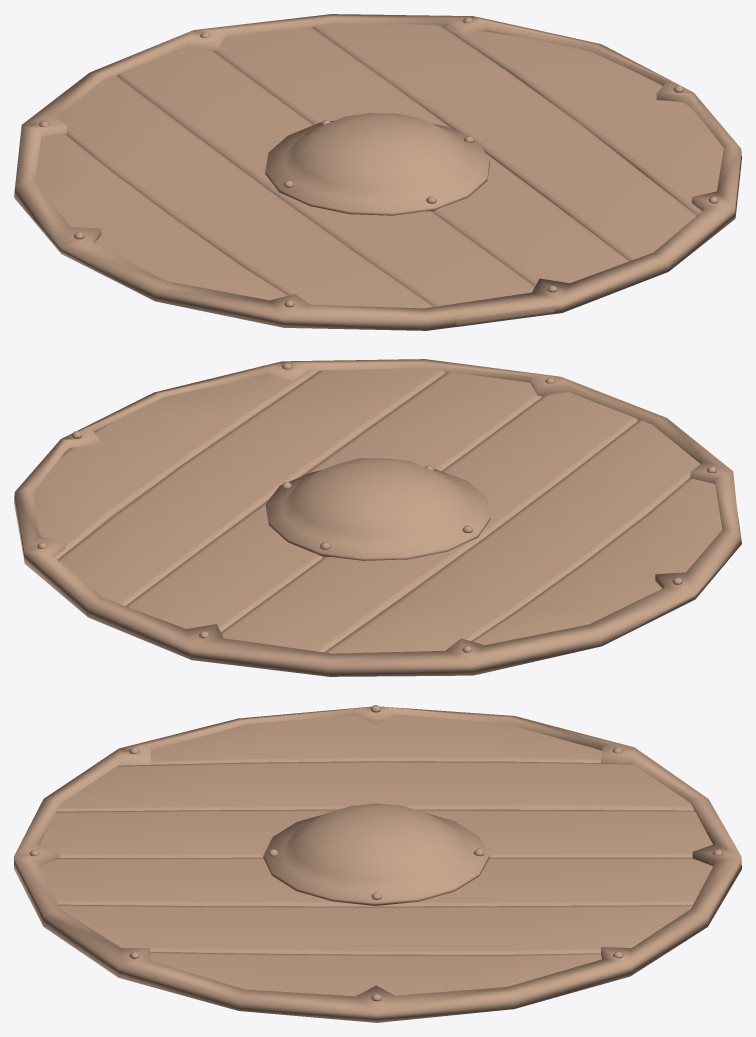
The model's file is escut_low.fbx.
3 views of the same model, one above another, from view 1: azimuth 30°, elevation 25°; view 2: azimuth 150°, elevation 25°; view 3: azimuth 270°, elevation 25° (orthographic).
Parts seen in each view (by area): view 1: fusta, metall, decor003; view 2: fusta, metall, decor003; view 3: fusta, metall, decor003.
Boxes of the visible parts, x1,y1,x2,y2 form: fusta: (35, 23, 723, 326); metall: (14, 14, 741, 330); decor003: (39, 17, 718, 307); fusta: (33, 368, 722, 653); metall: (14, 359, 741, 676); decor003: (37, 363, 716, 652); fusta: (39, 714, 712, 996); metall: (14, 706, 741, 1022); decor003: (29, 705, 722, 1001).
Bounding box in the file's own units: 162 × 20.23 × 164.
